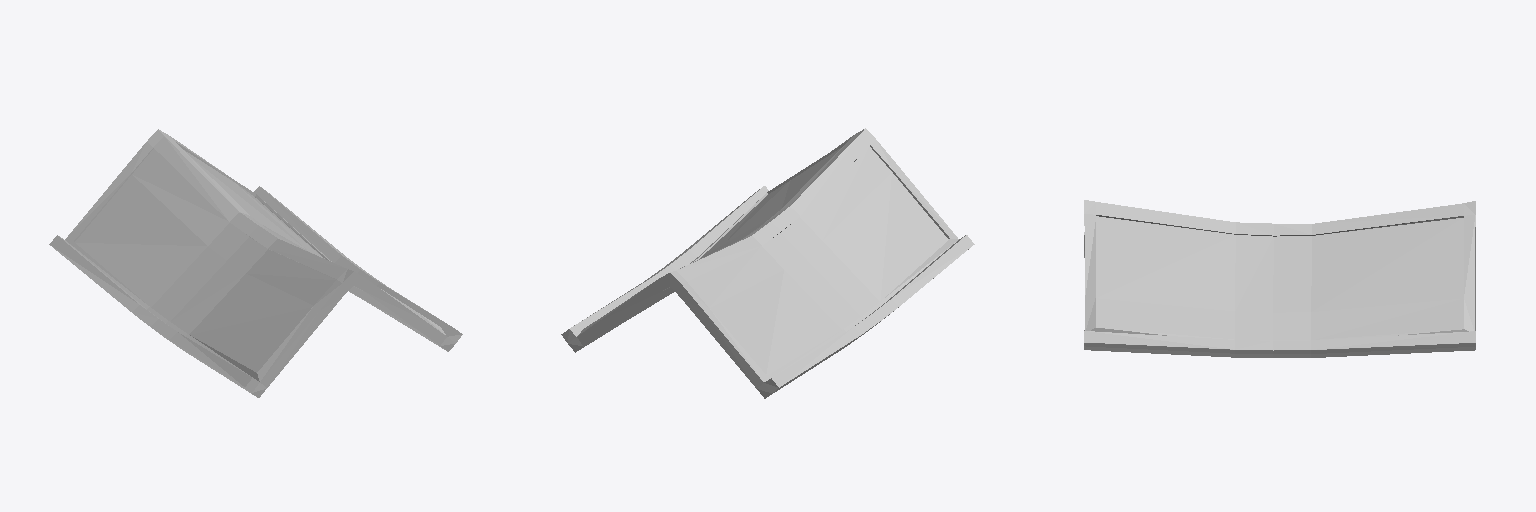
File: toit 1.obj
The picture shows the model from 3 angles: view 1: azimuth 30°, elevation 25°; view 2: azimuth 150°, elevation 25°; view 3: azimuth 270°, elevation 25°; orthographic projection.
Parts seen in each view (by area): view 1: toiture_1_LD; view 2: toiture_1_LD; view 3: toiture_1_LD.
Part boxes in pixels (x1,y1,x2,y2): toiture_1_LD: (49,129,462,397); toiture_1_LD: (561,128,974,398); toiture_1_LD: (1084,200,1475,357).
Size of the model in its own units: 37.44 by 18.51 by 58.41.